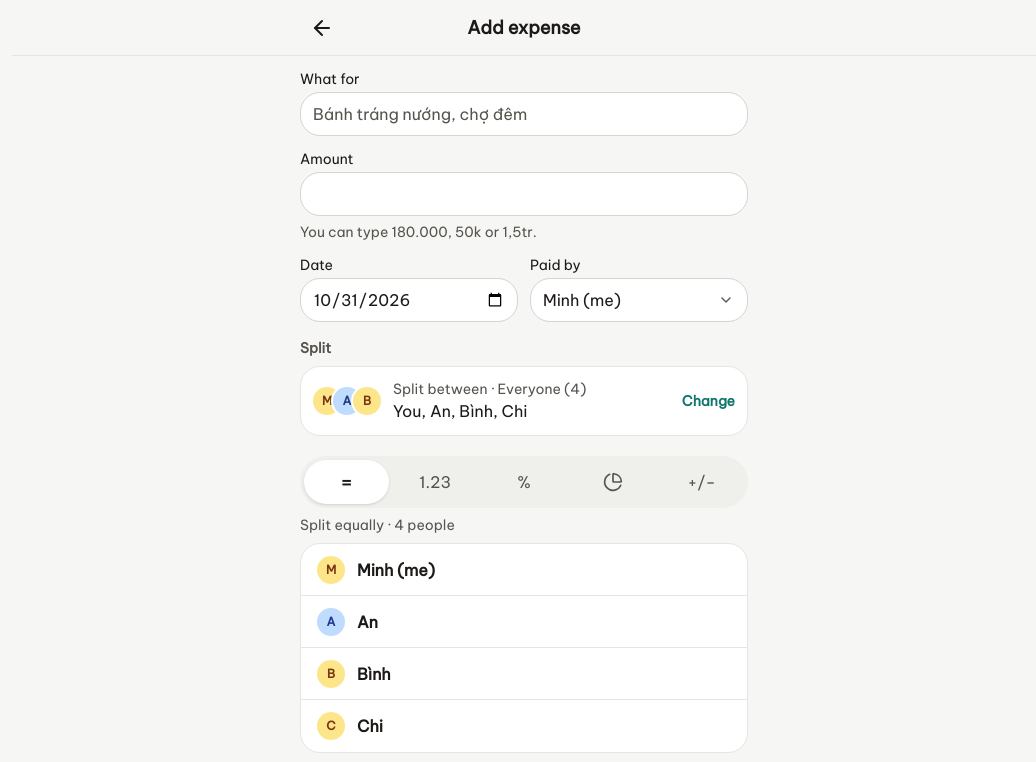
Test: ExpenseForm, blank boxes share what is left › over is still an error
The image size is (1036, 762).
In the field labelled "What for": (524, 114) [300, 92, 748, 136], type "Lẩu nấm"
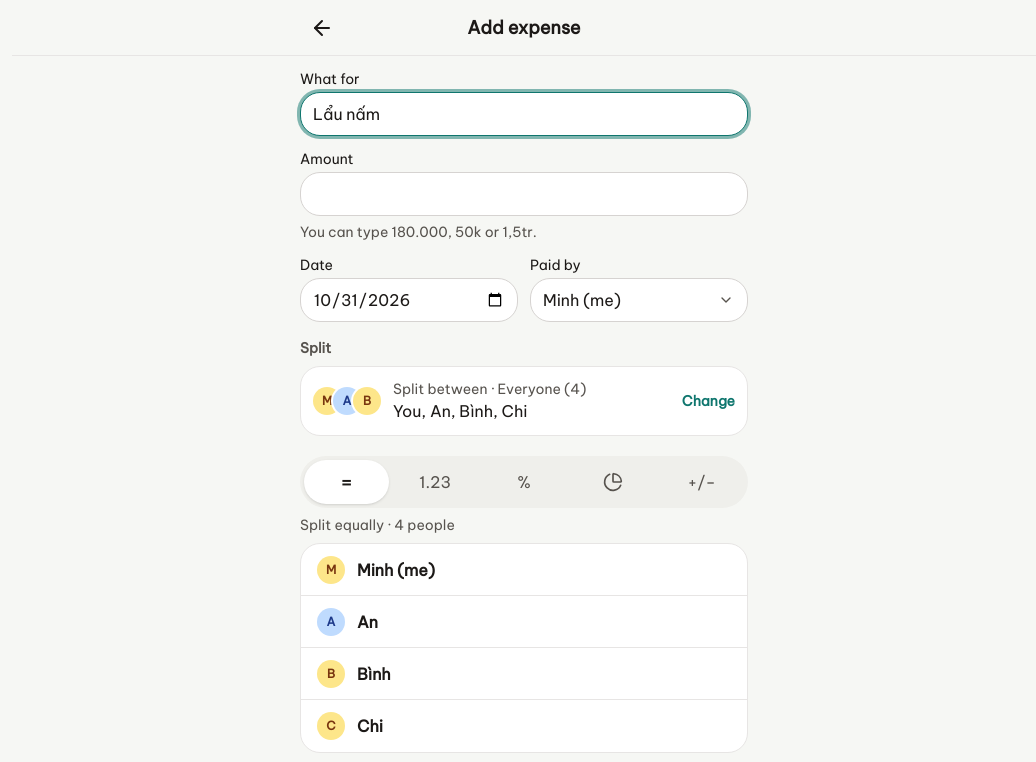
In the field labelled "Amount": (524, 194) [300, 172, 748, 216], type "1.000.000"
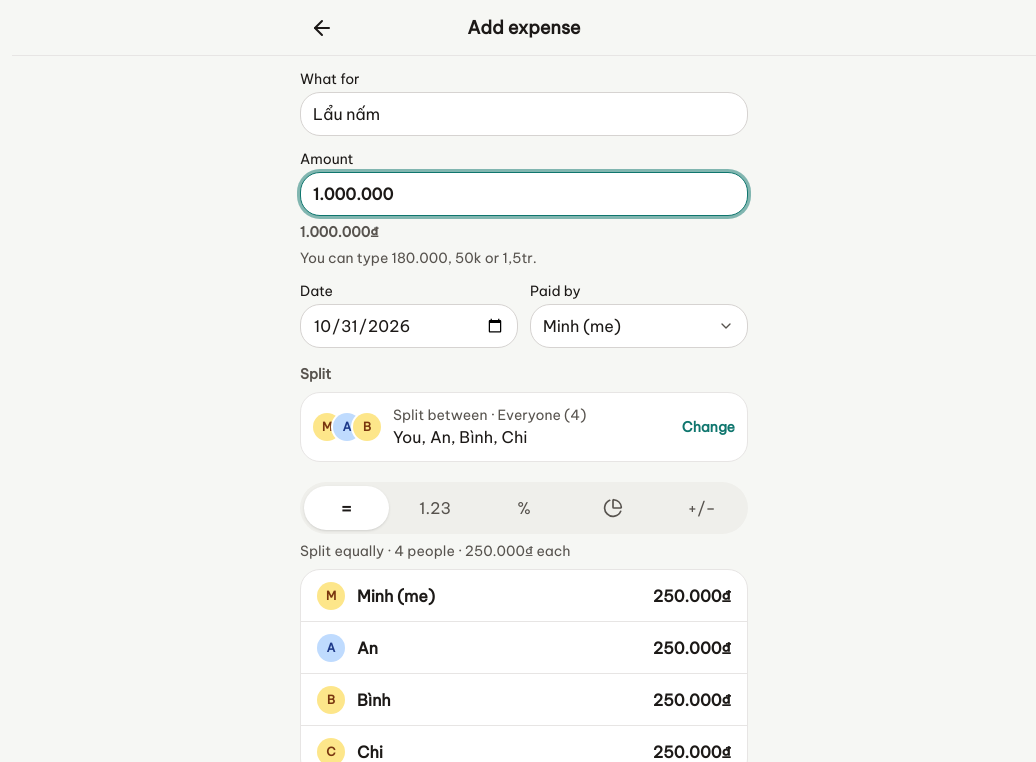
Click the radio button named "Percent": (524, 508) [482, 486, 566, 530]
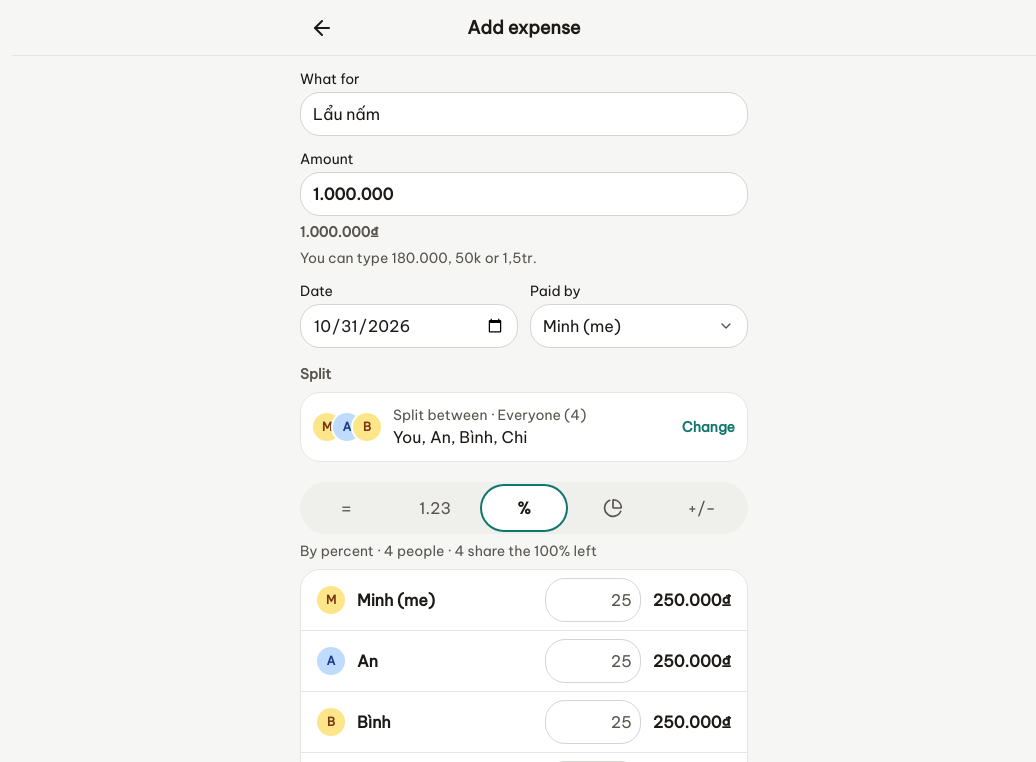
In the field named "Percent for Minh": (593, 600) [545, 578, 641, 622], type "70"
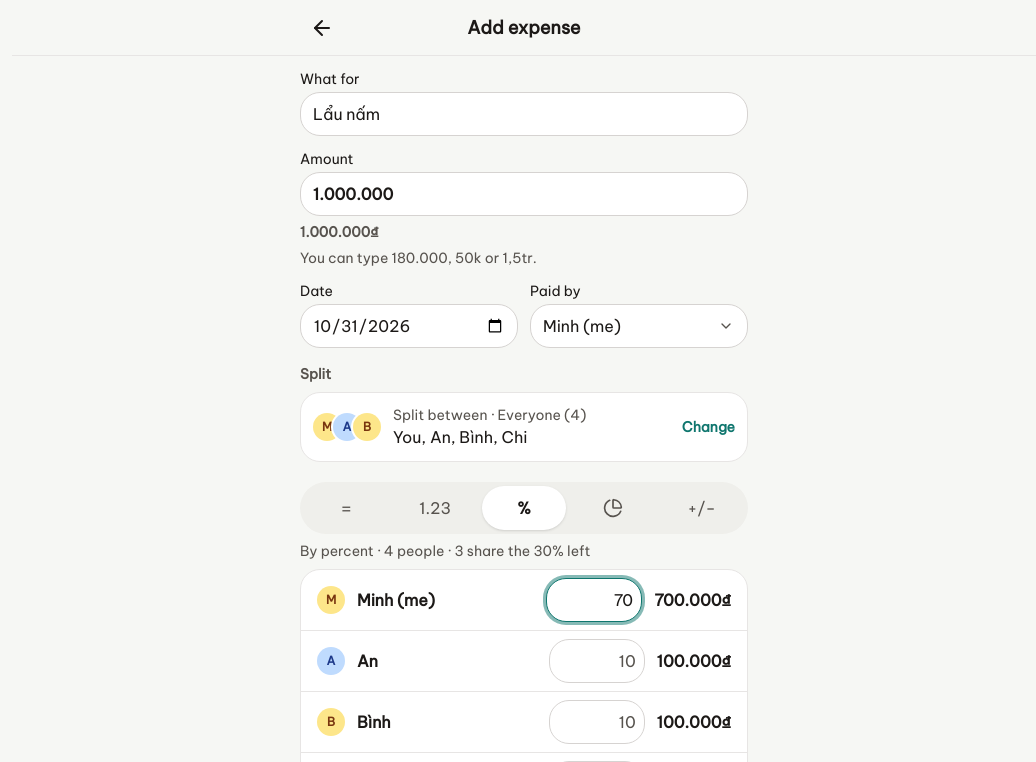
In the field named "Percent for An": (597, 661) [549, 639, 645, 683], type "40"
(page scrolled)
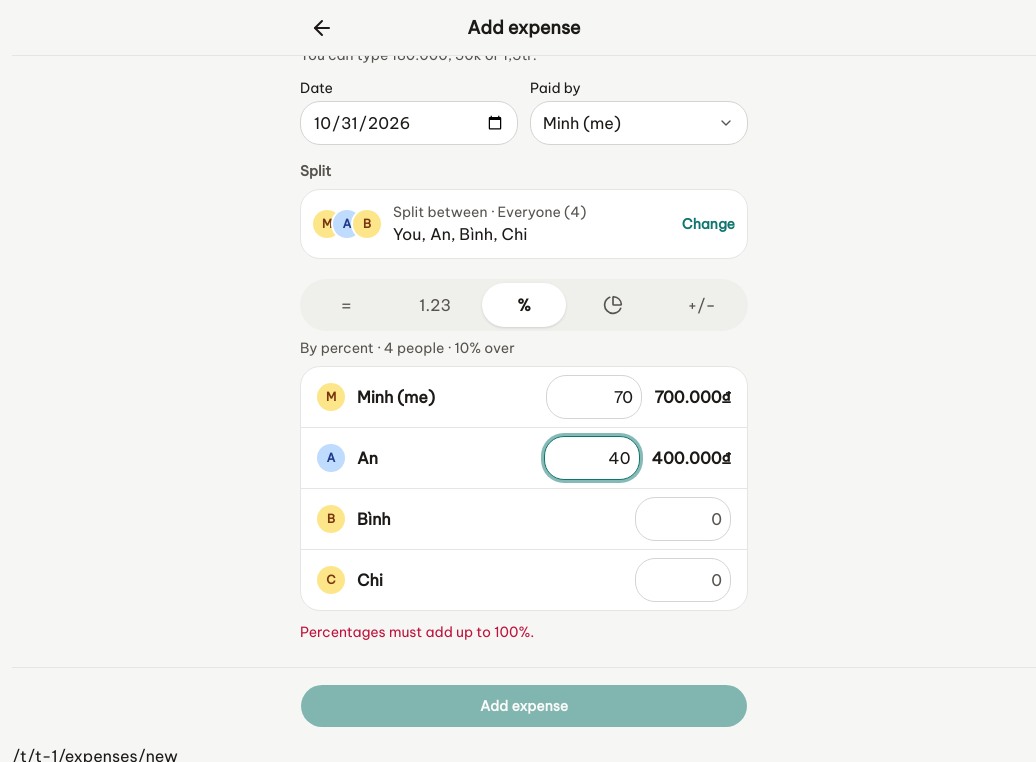
Check: the text "By percent · 4 people · 10% over" is shown, box [300, 339, 515, 357]
Check: the button "Add expense" is disabled, box [300, 684, 748, 728]
